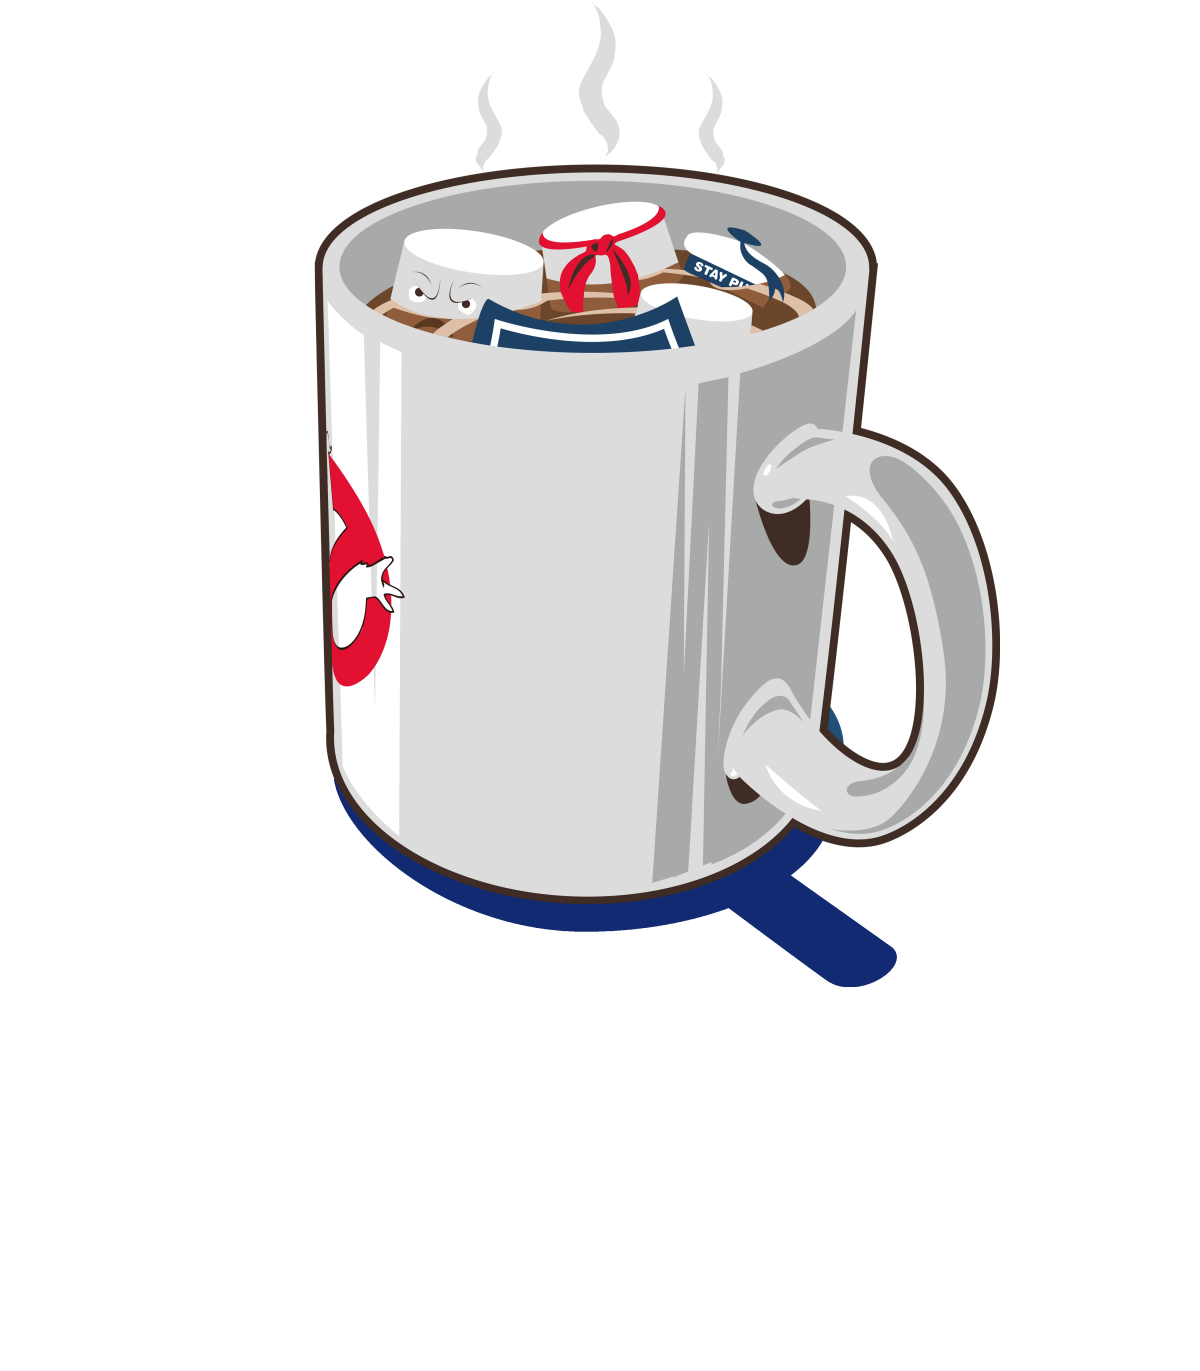design: (261, 3, 1022, 1022)
